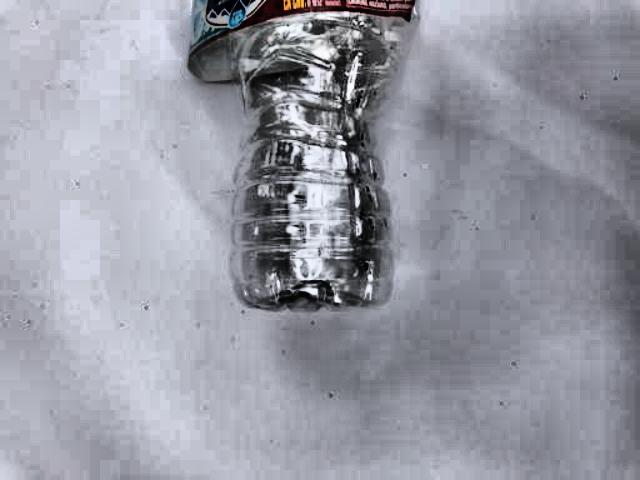Bottles: (180, 3, 411, 308)
